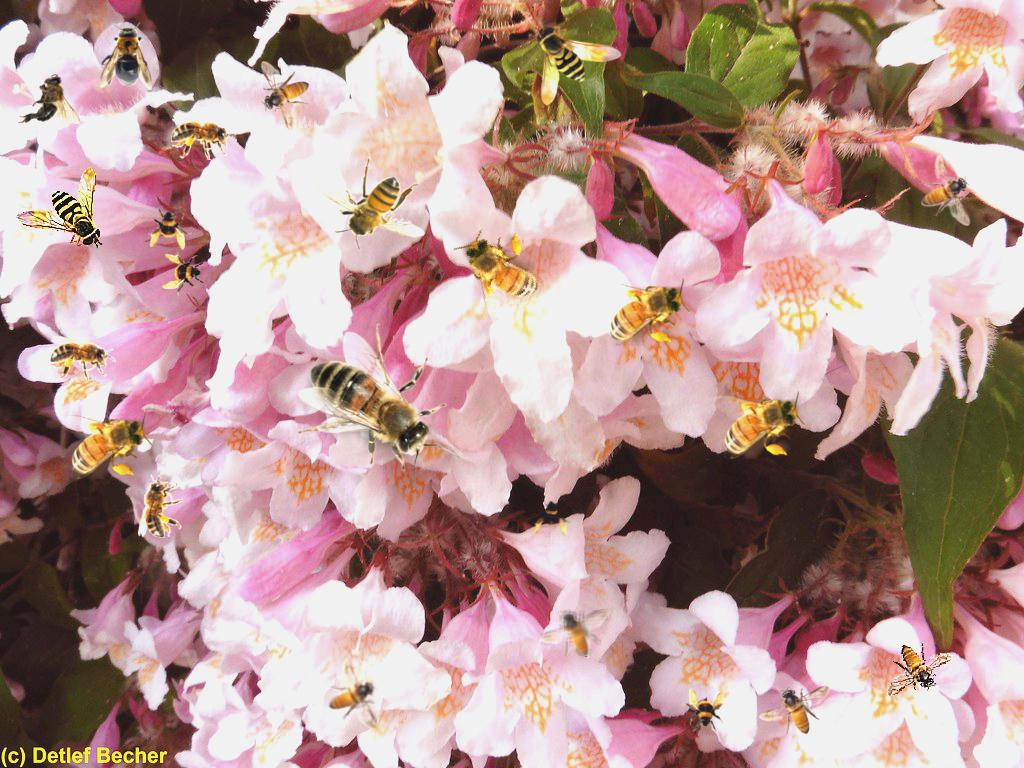Bee: (298, 323, 460, 490), (450, 214, 552, 329), (314, 157, 425, 251), (15, 167, 103, 249), (534, 23, 622, 105), (712, 391, 805, 459), (59, 411, 152, 479), (597, 278, 690, 346), (880, 637, 958, 698), (539, 608, 610, 658), (759, 685, 830, 735), (921, 155, 971, 226), (260, 61, 310, 132), (328, 659, 378, 730), (100, 22, 152, 90), (18, 74, 80, 127), (50, 336, 116, 381), (138, 472, 183, 538), (171, 115, 237, 160), (682, 688, 726, 732), (148, 206, 192, 250), (162, 252, 206, 296), (531, 495, 575, 539)
